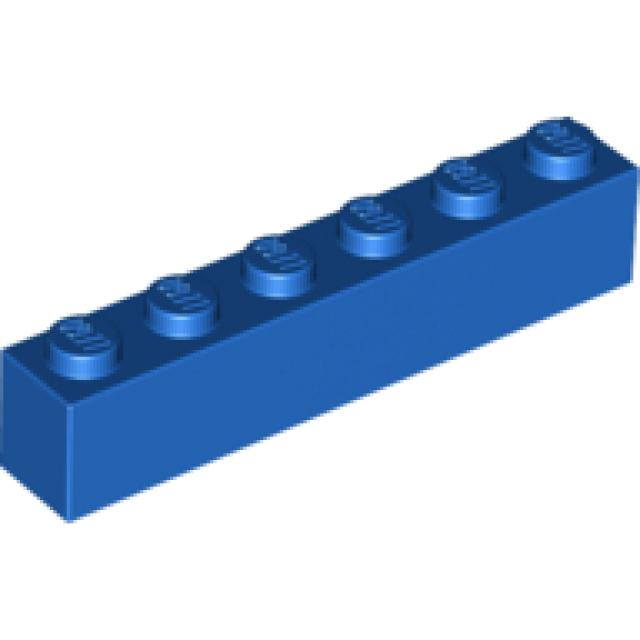Blue_Large: (0, 117, 640, 527)
